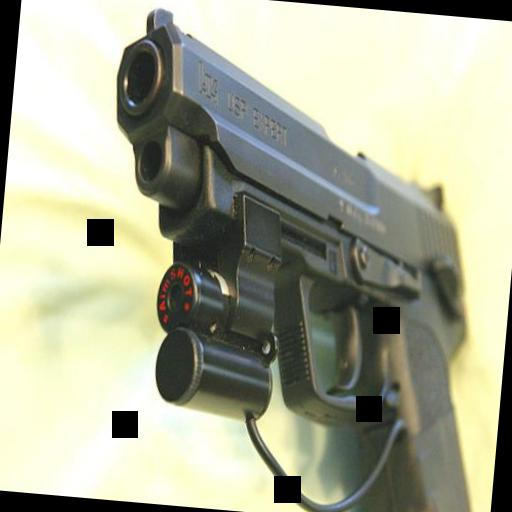Handgun: (79, 2, 512, 512)
